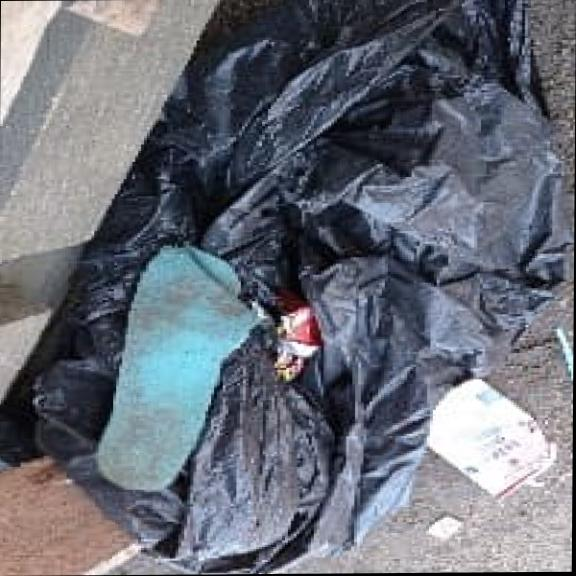Plastik: (10, 0, 567, 575)
